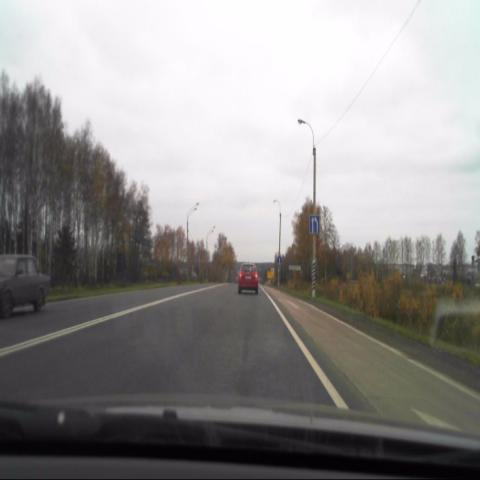5_15_5: (308, 213, 320, 235)
